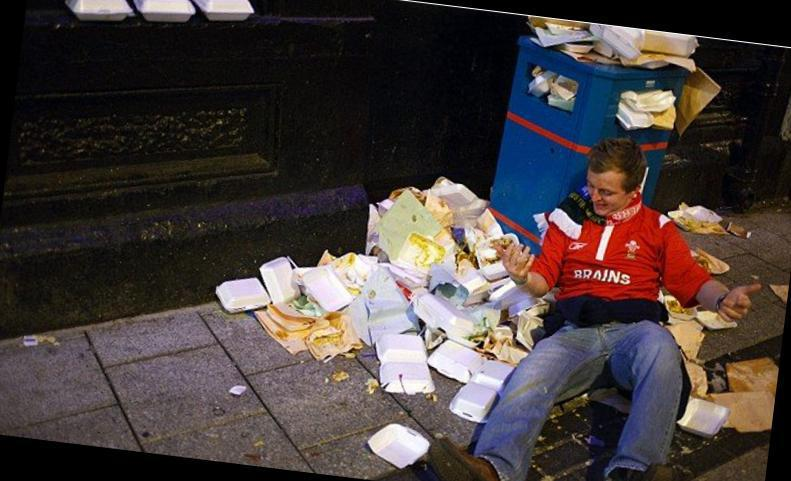Drunk: (582, 167, 629, 216)
